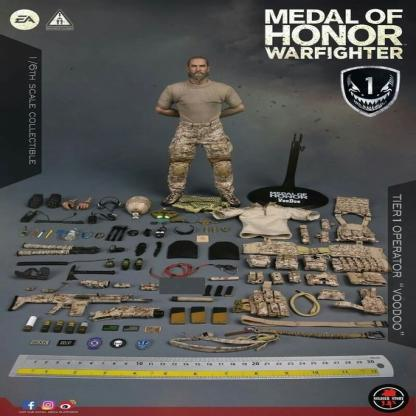Grenade: (133, 257, 144, 271), (120, 258, 131, 271), (104, 258, 116, 269)
Gun: (8, 290, 155, 318)
Knife: (135, 242, 147, 257), (154, 241, 164, 258)
